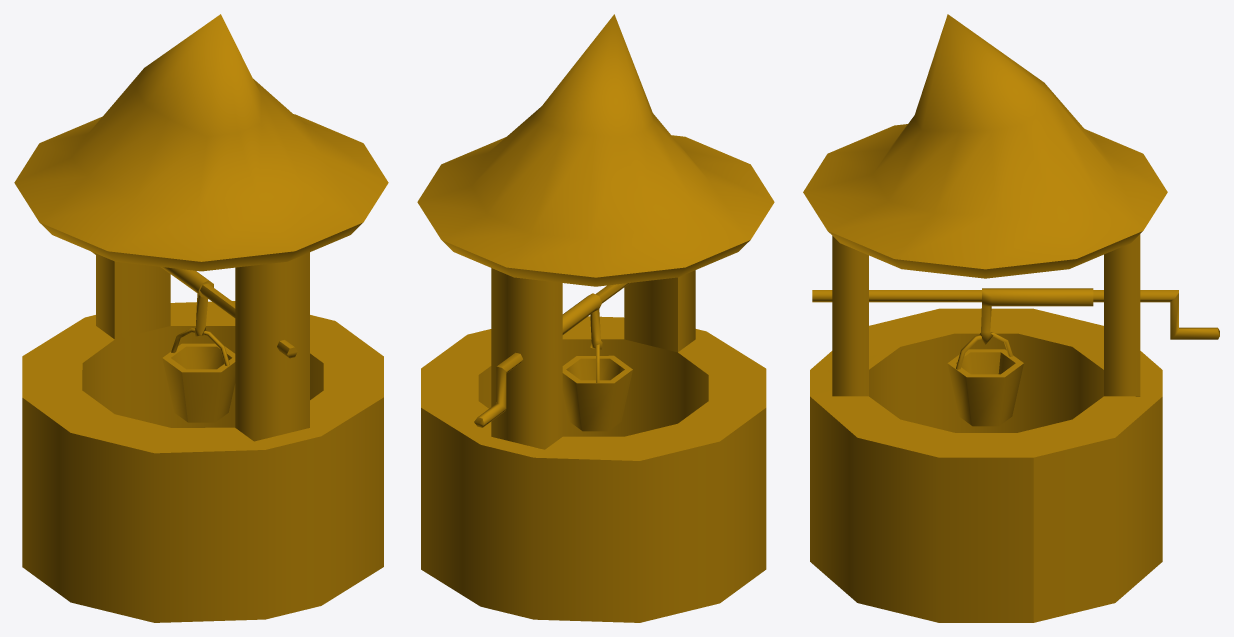
File: well.fbx
The picture shows the model from 3 angles, left to right: view 1: azimuth 30°, elevation 25°; view 2: azimuth 150°, elevation 25°; view 3: azimuth 270°, elevation 25°; orthographic projection. The views are drawn at different scales.
Parts seen in each view (by area): view 1: well; view 2: well; view 3: well.
Part boxes in pixels (<box>): well: <box>14,14,388,622</box>; well: <box>417,14,774,622</box>; well: <box>803,14,1219,622</box>.
Bounding box in the file's own units: 41.6 × 67.13 × 47.54.
